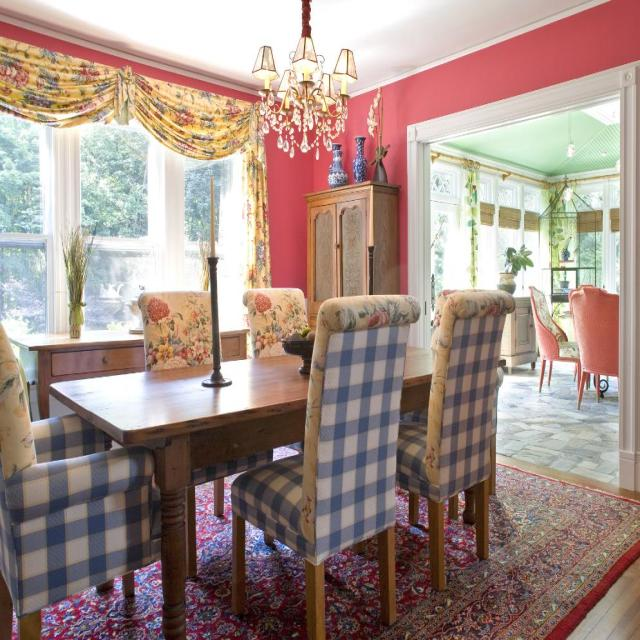Chair: (229, 293, 421, 640), (0, 322, 164, 640), (137, 291, 274, 576), (398, 289, 498, 527), (244, 289, 311, 544), (530, 284, 589, 390), (570, 287, 620, 410), (567, 285, 604, 383)
